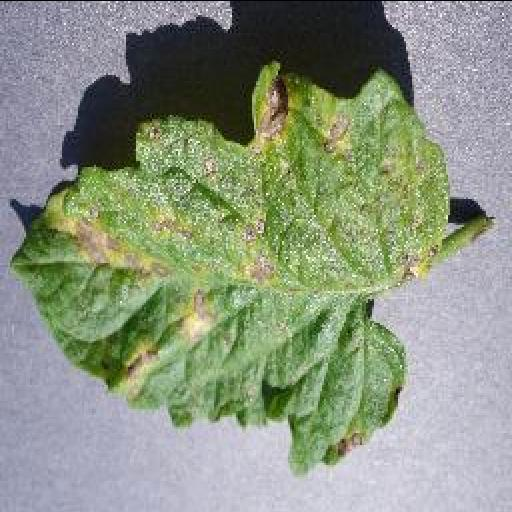disease_tomato: (4, 64, 450, 473)
